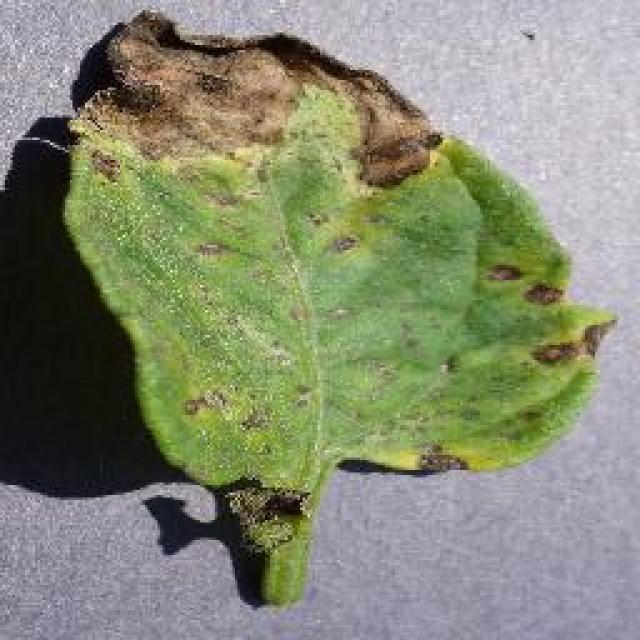Tomato Septoria spot leaf: (70, 4, 622, 494)
